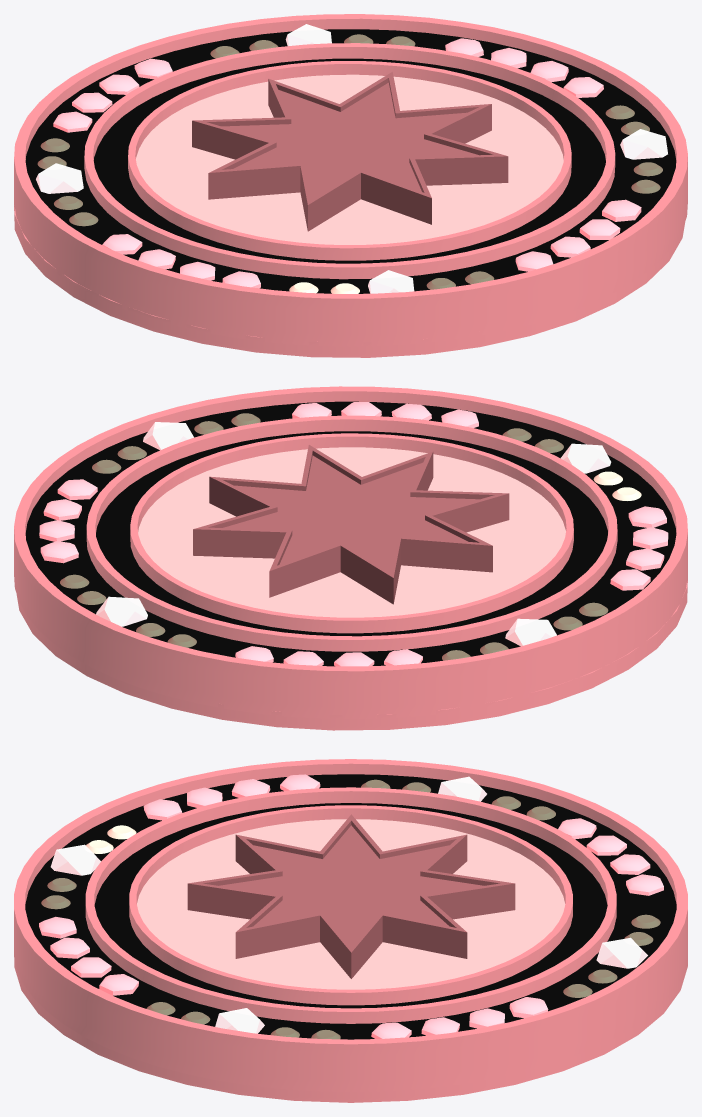
The model's file is coin.gltf.
3 renders of one model, top to bottom at view 1: azimuth 30°, elevation 25°; view 2: azimuth 150°, elevation 25°; view 3: azimuth 270°, elevation 25°, orthographic.
Visible parts, largest first — view 1: Tube (×3), Cylinder, Boolean, 바닥, Cylinder.2, Cube.4, Cube.5, Cube.7, Cube.6, Cylinder.30, Cylinder.29, Cylinder.14 (+11 smaller); view 2: Tube (×3), Cylinder, Boolean, 바닥, Cylinder.2, Cube.6, Cube.7, Cube.5, Cube.4, Cylinder.7, Cylinder.8, Cylinder.5 (+5 smaller); view 3: Tube (×3), Cylinder, Boolean, 바닥, Cylinder.2, Cube.6, Cube.7, Cube.4, Cube.5, Cylinder.30, Cylinder.29, Cylinder.28 (+12 smaller).
Part boxes in pixels (<box>): Tube (×3): <box>14,14,687,346</box>; Cylinder: <box>25,29,676,293</box>; Boolean: <box>192,72,508,231</box>; 바닥: <box>136,74,563,244</box>; Cylinder.2: <box>14,205,685,357</box>; Cube.4: <box>620,129,667,159</box>; Cube.5: <box>36,163,83,193</box>; Cube.7: <box>368,270,414,293</box>; Cube.6: <box>285,24,331,45</box>; Cylinder.30: <box>602,199,641,221</box>; Cylinder.29: <box>579,219,620,239</box>; Cylinder.14: <box>53,111,92,132</box>; Tube (×3): <box>14,386,687,718</box>; Cylinder: <box>25,401,676,666</box>; Boolean: <box>193,445,509,604</box>; 바닥: <box>138,447,565,617</box>; Cylinder.2: <box>16,580,687,730</box>; Cube.6: <box>96,596,147,626</box>; Cube.7: <box>560,443,611,473</box>; Cube.5: <box>505,618,556,646</box>; Cube.4: <box>143,422,193,450</box>; Cylinder.7: <box>610,569,650,590</box>; Cylinder.8: <box>626,548,664,570</box>; Cylinder.5: <box>40,541,78,563</box>; Tube (×3): <box>14,759,687,1091</box>; Cylinder: <box>25,774,676,1039</box>; Boolean: <box>187,814,515,978</box>; 바닥: <box>137,819,565,989</box>; Cylinder.2: <box>14,957,687,1102</box>; Cube.6: <box>596,937,647,968</box>; Cube.7: <box>50,844,100,875</box>; Cube.4: <box>215,1008,264,1033</box>; Cube.5: <box>438,776,486,801</box>; Cylinder.30: <box>99,974,138,995</box>; Cylinder.29: <box>71,957,111,977</box>; Cylinder.28: <box>50,937,89,958</box>.
Size of the model in its own units: 3.08 by 0.4003 by 3.08.
